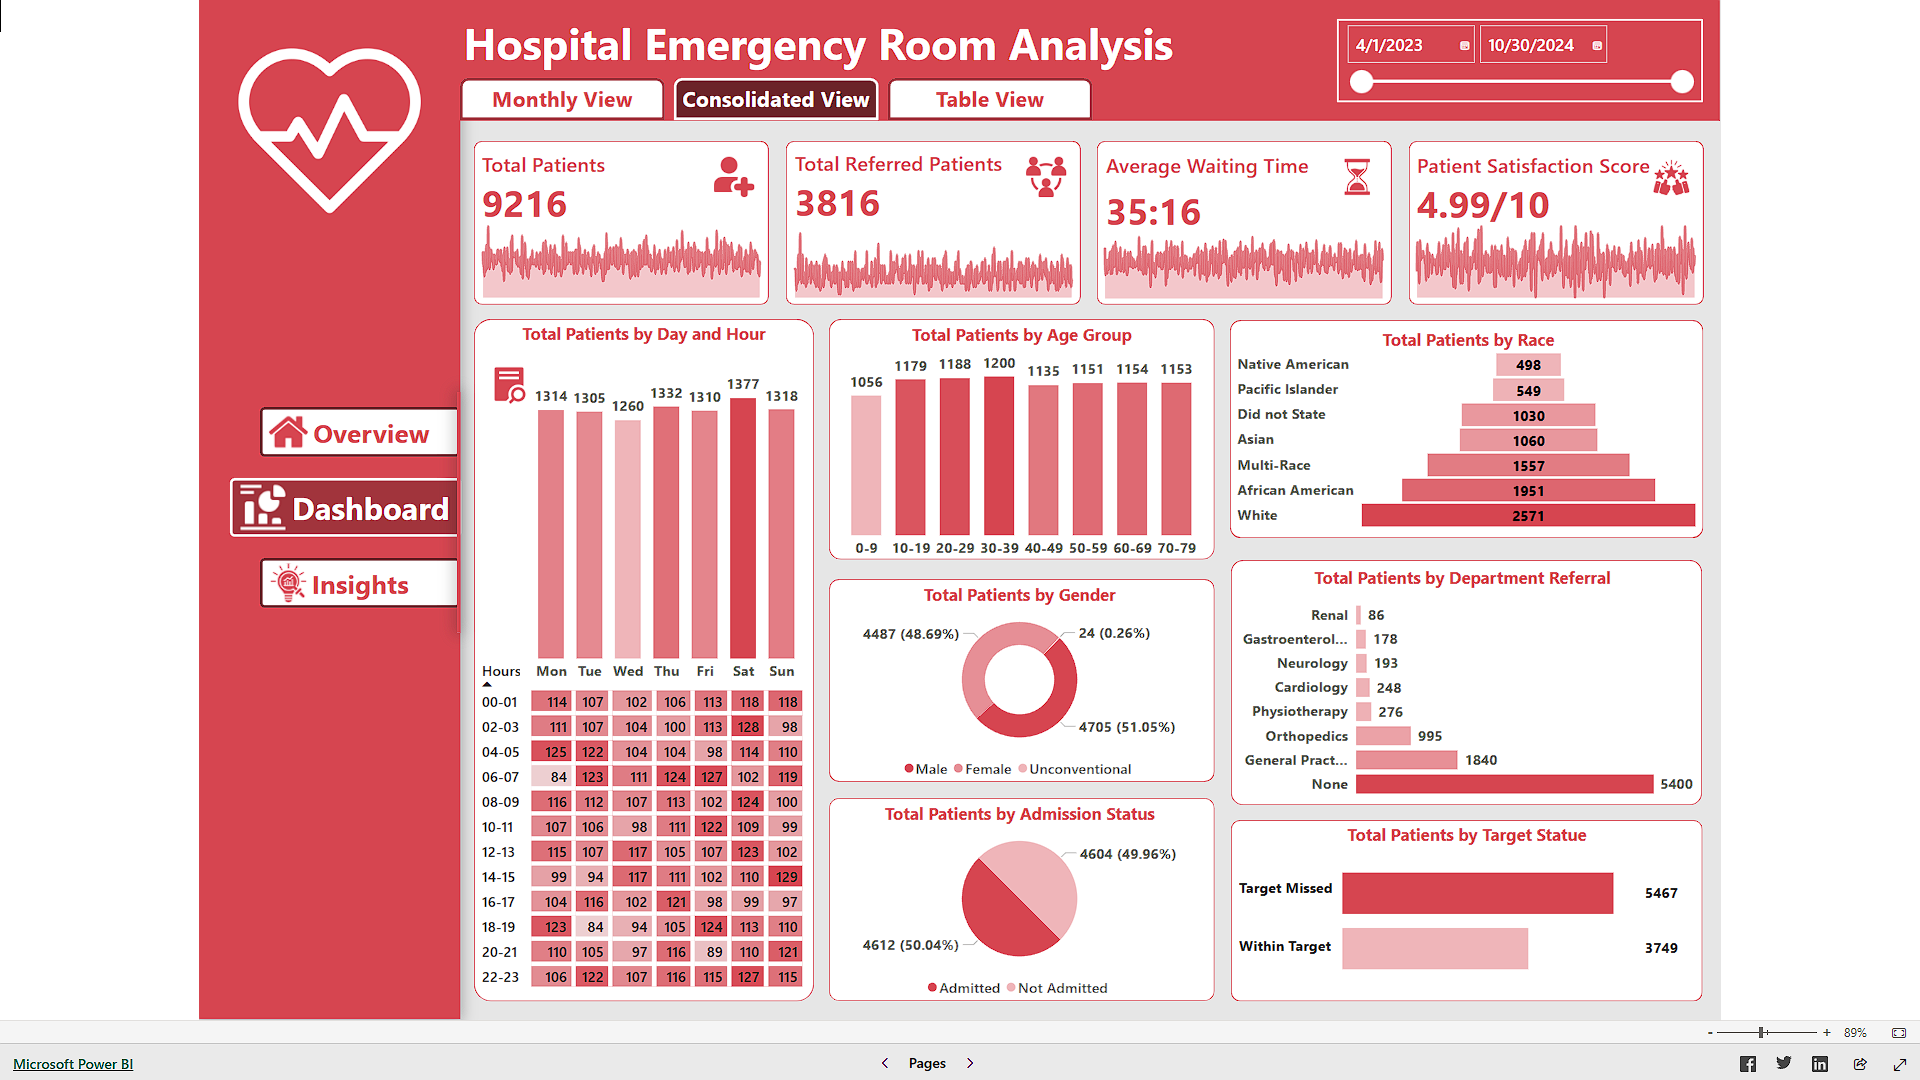

What the dashboard file says about the page in this screenshot:
{"tool":"powerbi","page":{"name":"Table View","canvas":[1700,1140],"ordinal":6},"visuals":[{"type":"shape","box":[0,0,292.2,1139.5],"z":0},{"type":"textbox","title":"Hospital Emergency Room Analysis","box":[290.8,14.7,938.4,91],"z":0,"group":"g1"},{"type":"actionButton","box":[34.3,396.3,258.6,65.7],"z":0,"group":"g2"},{"type":"textbox","title":"Filter","box":[0,592.7,292,40.3],"z":0,"group":"g4"},{"type":"shape","box":[292,0,1408,135],"z":1000},{"type":"actionButton","box":[68.2,485.2,224,55.7],"z":1000,"group":"g2"},{"type":"image","box":[0,38.6,291.4,214.3],"z":2000},{"type":"actionButton","box":[68.2,316.7,224,55.7],"z":2000,"group":"g2"},{"type":"pageNavigator","box":[292.2,87,709,47],"z":3000},{"type":"shape","box":[288,300,4.2,268.5],"z":3000,"group":"g2"},{"type":"tableEx","fields":{"Values":["Hospital ER.Patient Id","Hospital ER.Patient Name","Hospital ER.Patient Gender","Hospital ER.Patient Age","Hospital ER.Patient Race","Hospital ER.Patient Admission Date","Hospital ER.Patient Admission Time","Hospital ER.Waiting Time","Hospital ER.Department Referral","Hospital ER.Admission Status"]},"box":[292.2,133.6,1408,1007.3],"z":4000},{"type":"group","id":"g1","title":"Group 1","box":[290.8,14.7,938.4,91],"z":5000},{"type":"group","id":"g2","title":"Group 2","box":[34.3,300,258.6,268.5],"z":6000},{"type":"group","id":"g3","title":"Group 6","box":[0,588.9,292.2,513.4],"z":7000},{"type":"textFilter25A4896A83E0487089E2B90C9AE57C8A","title":"Search by Patient ID","fields":{"field":["Hospital ER.Patient Id"]},"box":[1384.3,20.9,299.1,94.6],"z":8000},{"type":"slicer","title":"Patient Satisfaction Score","fields":{"Values":["Hospital ER.Patient Satisfaction Score"]},"box":[8.1,821,274.5,131.2],"z":48000,"group":"g3"},{"type":"slicer","title":"Waiting Time","fields":{"Values":["Hospital ER.Patient Waittime"]},"box":[8.1,971.1,274.5,131.2],"z":49000,"group":"g3"},{"type":"advancedSlicerVisual","title":"Patient Satisfaction Score","fields":{"Values":["Hospital ER.Patient Gender"]},"box":[87.9,653,194.7,146],"z":50000,"group":"g3"},{"type":"image","box":[8.3,683.1,69.6,73.7],"z":51000,"group":"g3"},{"type":"shape","box":[0,588.9,292.2,48.7],"z":52001,"group":"g3"},{"type":"group","id":"g4","title":"Group 1","box":[0,592.7,292,40.3],"z":52501,"group":"g3"}]}

Visuals, with their boxes on the page's 1700x1140 design canvas (x1, y1, x2, y2). These are canvas units, not pixel positions in the 1920x1080 screenshot, which may show the page scaled, cropped or inside an application window:
shape: x1=0, y1=0, x2=292, y2=1140
"Hospital Emergency Room Analysis" textbox: x1=291, y1=15, x2=1229, y2=106
actionButton: x1=34, y1=396, x2=293, y2=462
"Filter" textbox: x1=0, y1=593, x2=292, y2=633
shape: x1=292, y1=0, x2=1700, y2=135
actionButton: x1=68, y1=485, x2=292, y2=541
image: x1=0, y1=39, x2=291, y2=253
actionButton: x1=68, y1=317, x2=292, y2=372
pageNavigator: x1=292, y1=87, x2=1001, y2=134
shape: x1=288, y1=300, x2=292, y2=568
tableEx - Hospital ER.Patient Id x Hospital ER.Patient Name: x1=292, y1=134, x2=1700, y2=1141
"Group 1" group: x1=291, y1=15, x2=1229, y2=106
"Group 2" group: x1=34, y1=300, x2=293, y2=568
"Group 6" group: x1=0, y1=589, x2=292, y2=1102
"Search by Patient ID" textFilter25A4896A83E0487089E2B90C9AE57C8A: x1=1384, y1=21, x2=1683, y2=116
"Patient Satisfaction Score" slicer: x1=8, y1=821, x2=283, y2=952
"Waiting Time" slicer: x1=8, y1=971, x2=283, y2=1102
"Patient Satisfaction Score" advancedSlicerVisual: x1=88, y1=653, x2=283, y2=799
image: x1=8, y1=683, x2=78, y2=757
shape: x1=0, y1=589, x2=292, y2=638
"Group 1" group: x1=0, y1=593, x2=292, y2=633
